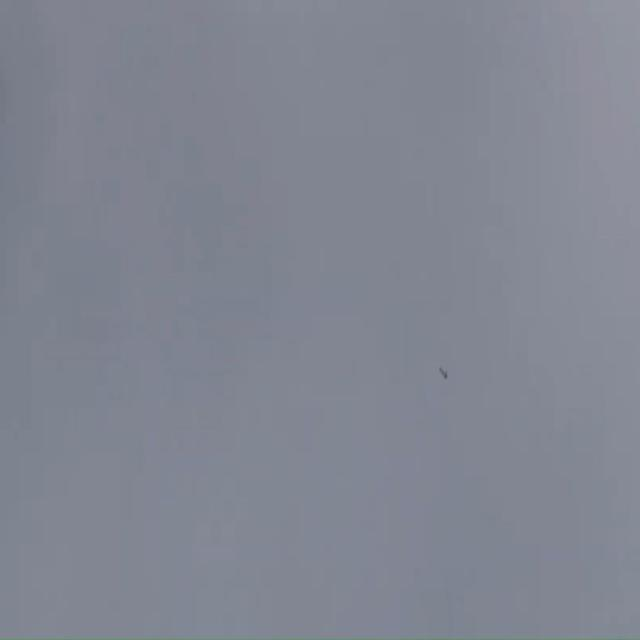Rocket: (439, 367, 447, 379)
